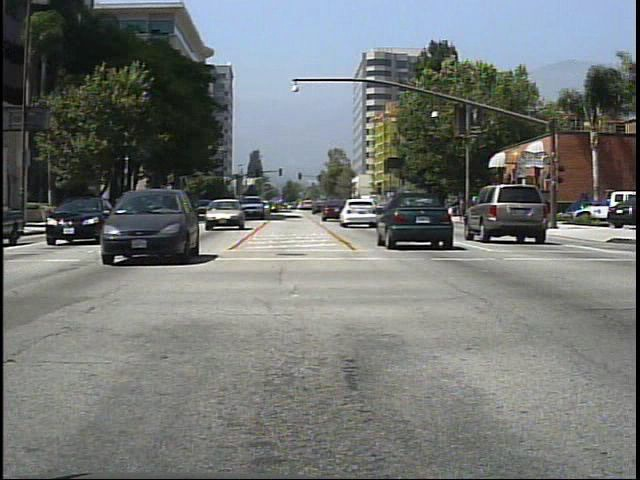person: (513, 195, 532, 231), (482, 190, 500, 225)
